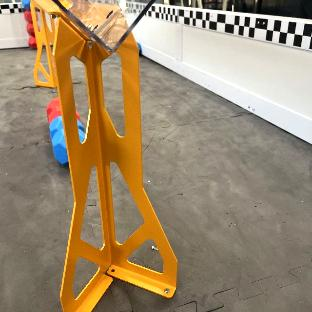Goal: (31, 0, 57, 87)
